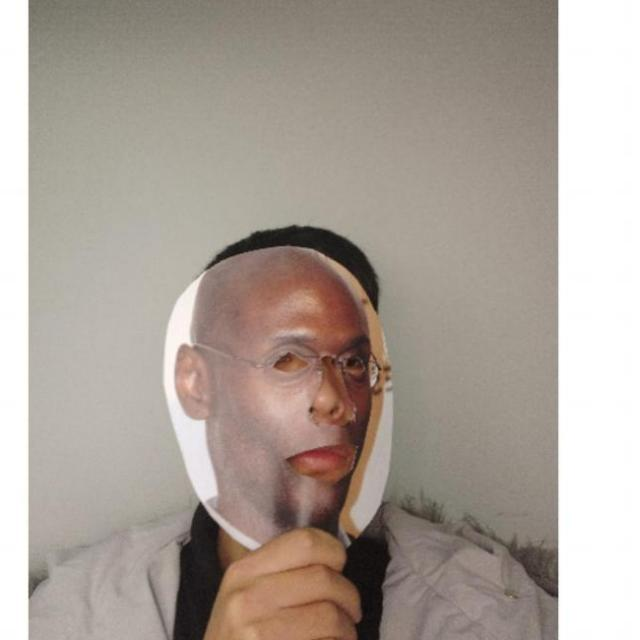mask: (161, 244, 401, 556)
